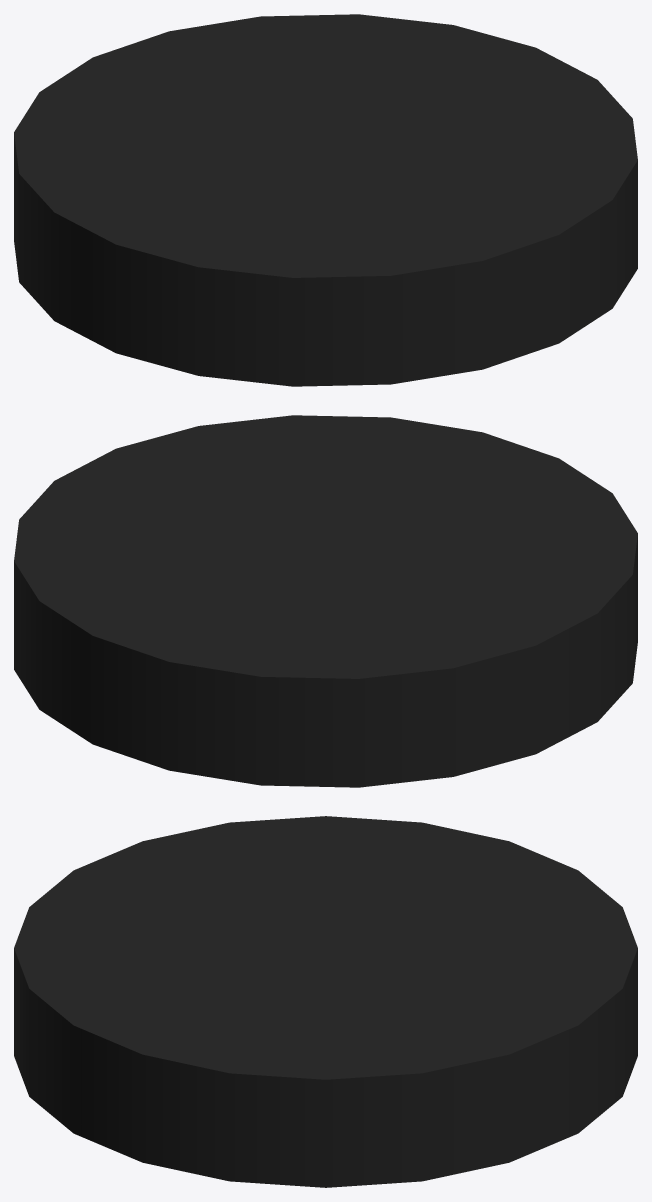
File: lamp3.FBX
The picture shows the model from 3 angles, top to bottom: view 1: azimuth 30°, elevation 25°; view 2: azimuth 150°, elevation 25°; view 3: azimuth 270°, elevation 25°; orthographic projection.
Parts seen in each view (by area): view 1: lamp3; view 2: lamp3; view 3: lamp3.
Part boxes in pixels (<box>): lamp3: <box>14,14,637,386</box>; lamp3: <box>14,415,637,787</box>; lamp3: <box>14,816,637,1187</box>.
Size of the model in its own units: 10.23 by 10.23 by 1.95.
